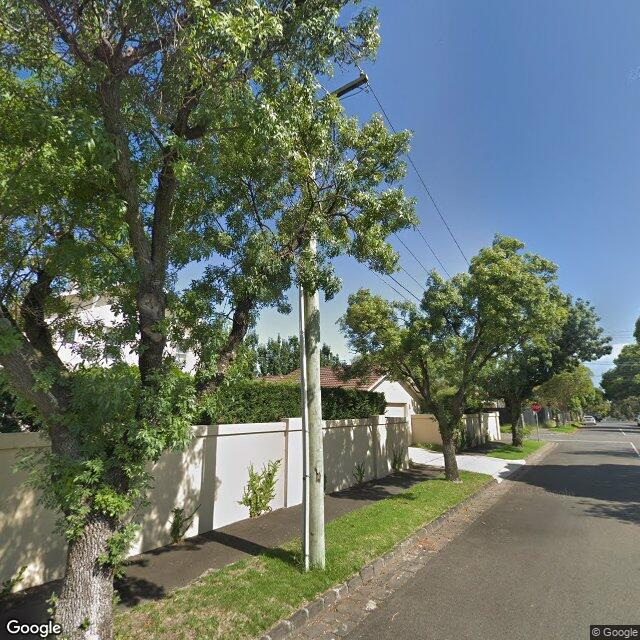crossarm: (321, 75, 368, 101)
timber-pole: (301, 158, 327, 572)
